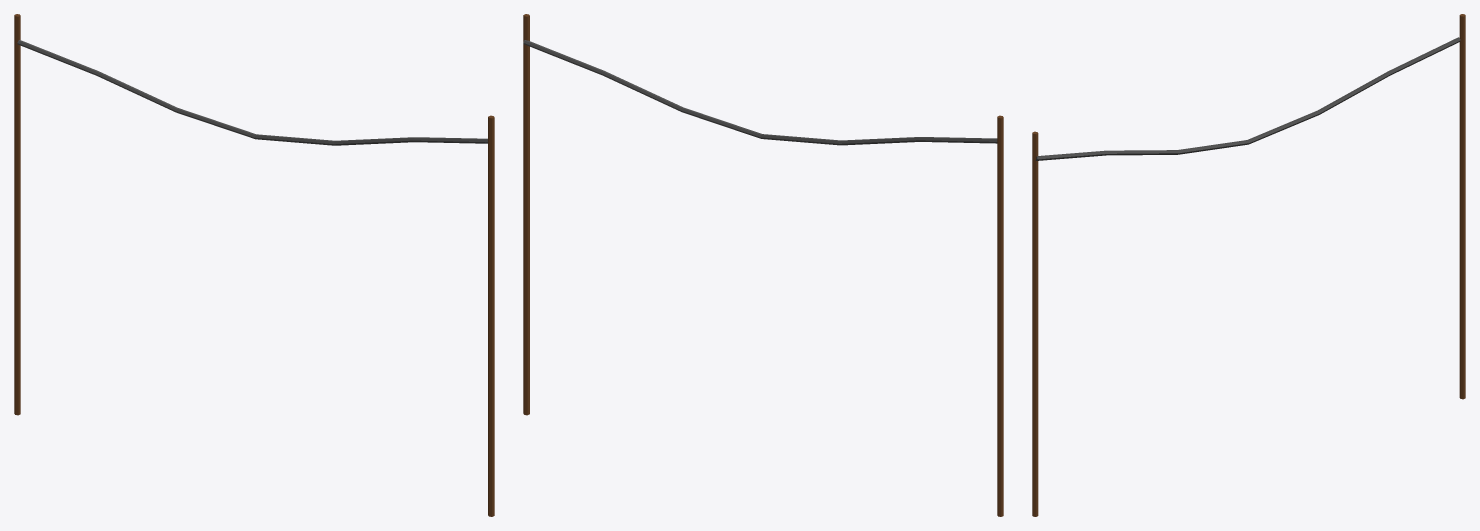
File: Pole_3.fbx
3 views of the same model, side by side, from view 1: azimuth 30°, elevation 25°; view 2: azimuth 210°, elevation 25°; view 3: azimuth 270°, elevation 25° (orthographic). The views are drawn at different scales.
Visible parts, largest first — view 1: Pole_3; view 2: Pole_3; view 3: Pole_3.
Part boxes in pixels (x1,y1,x2,y2): Pole_3: (14,14,494,516); Pole_3: (523,14,1003,516); Pole_3: (1032,14,1465,516).
Bounding box in the file's own units: 136 × 200 × 205.
